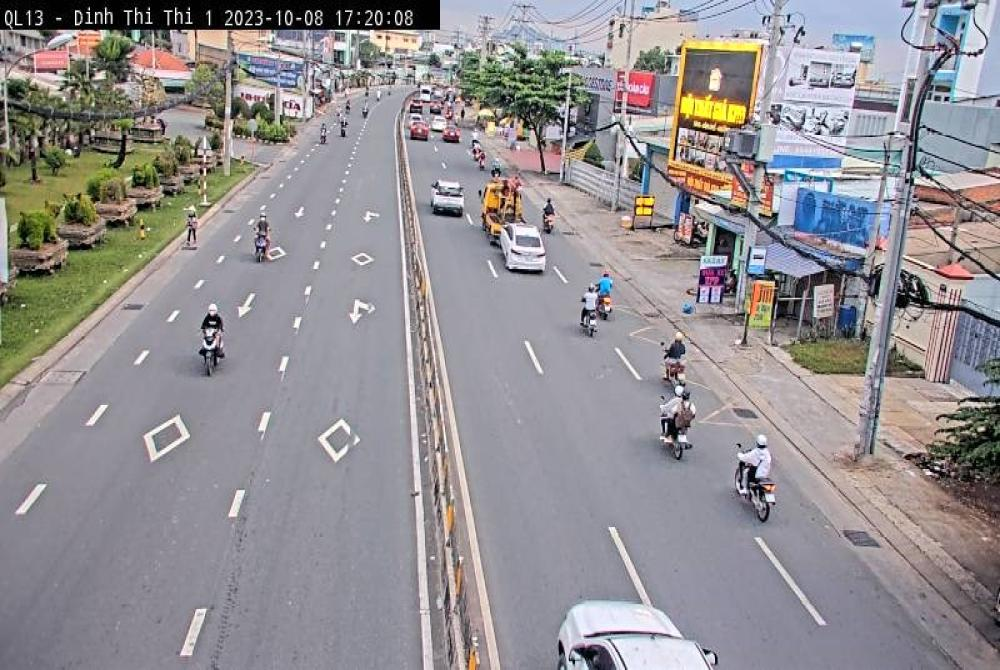car: (463, 327, 554, 518), (556, 600, 720, 670), (501, 224, 548, 274), (430, 179, 464, 217), (410, 122, 430, 142)
truck: (481, 177, 528, 246)
